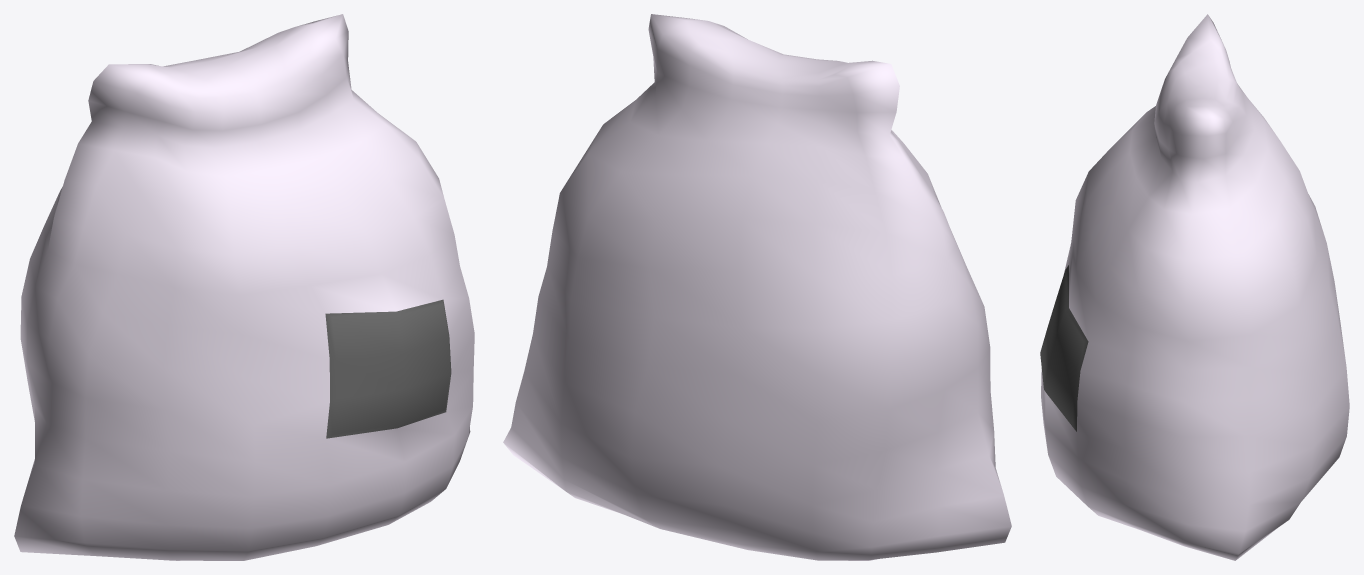
The model's file is sack.glb.
3 renders of one model, left to right at view 1: azimuth 30°, elevation 25°; view 2: azimuth 150°, elevation 25°; view 3: azimuth 270°, elevation 25°, orthographic. The views are drawn at different scales.
Visible parts, largest first — view 1: Item7; view 2: Item7; view 3: Item7.
Part boxes in pixels (<box>): Item7: <box>14,14,474,560</box>; Item7: <box>503,14,1011,560</box>; Item7: <box>1040,14,1349,560</box>.
Size of what is drawn, in the model's own units: 0.4204 by 0.4021 by 0.2776.
1 material, 1 textured.
